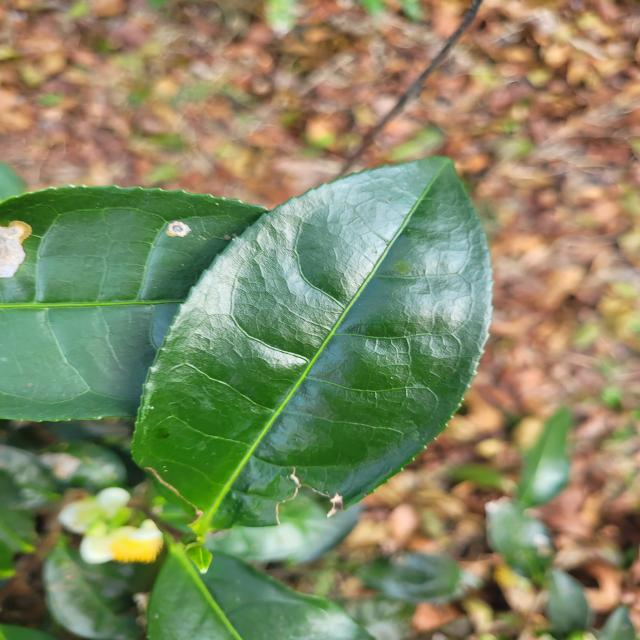Category D(7+ days, Not for Tea): (123, 136, 506, 552)
